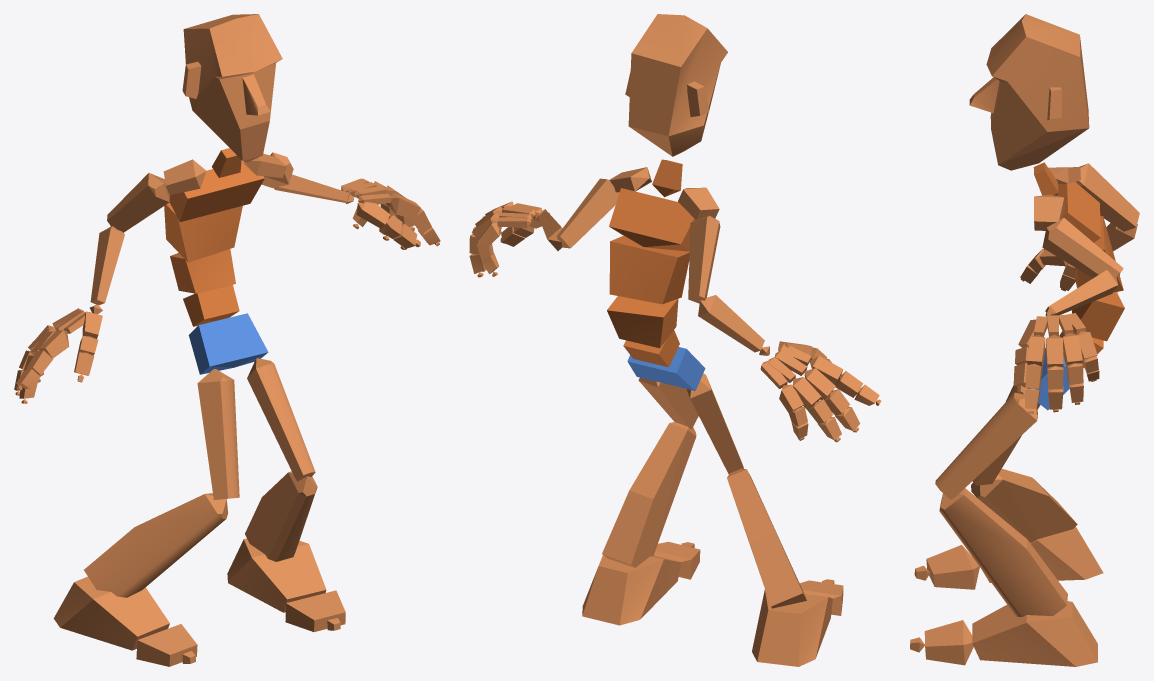
3 views of the same model, side by side, from view 1: azimuth 30°, elevation 25°; view 2: azimuth 150°, elevation 25°; view 3: azimuth 270°, elevation 25° (orthographic). The views are drawn at different scales.
Visible parts, largest first — view 1: BOPED_Head, BOPED_R_leg, BOPED_R_foot, BOPED_R_foot01, BOPED_R_legup, BOPED_L_leg, BOPED_L_legup, Bone01, Bone04, Bone05, Bone03, BOPED_R_arm_upper (+8 smaller); view 2: BOPED_Head, BOPED_L_leg, BOPED_R_foot01, BOPED_R_foot, BOPED_R_leg, Bone04, Bone05, Bone03, BOPED_R_arm_upper, BOPED_R_legup, BOPED_L_arm_upper, Bone01 (+8 smaller); view 3: BOPED_Head, BOPED_L_leg, BOPED_R_foot01, BOPED_R_leg, BOPED_L_legup, BOPED_R_foot, BOPED_L_arm_upper, BOPED_R_arm_upper, BOPED_R_foot_toe01, BOPED_R_foot_toe04, Bone05, Bone03 (+14 smaller).
Part boxes in pixels (bbox=[...]): BOPED_Head: bbox=[182, 14, 282, 162]; BOPED_R_leg: bbox=[84, 493, 227, 597]; BOPED_R_foot: bbox=[53, 576, 169, 650]; BOPED_R_foot01: bbox=[227, 538, 326, 612]; BOPED_R_legup: bbox=[197, 369, 239, 499]; BOPED_L_leg: bbox=[245, 471, 317, 561]; BOPED_L_legup: bbox=[247, 358, 315, 481]; Bone01: bbox=[188, 313, 268, 374]; Bone04: bbox=[164, 202, 242, 262]; Bone05: bbox=[169, 161, 264, 222]; Bone03: bbox=[170, 249, 235, 293]; BOPED_R_arm_upper: bbox=[107, 173, 169, 232]; BOPED_Head: bbox=[625, 14, 727, 156]; BOPED_L_leg: bbox=[602, 422, 696, 567]; BOPED_R_foot01: bbox=[582, 555, 681, 625]; BOPED_R_foot: bbox=[752, 589, 832, 666]; BOPED_R_leg: bbox=[727, 468, 806, 608]; Bone04: bbox=[609, 236, 689, 304]; Bone05: bbox=[609, 188, 696, 251]; Bone03: bbox=[607, 296, 678, 348]; BOPED_R_arm_upper: bbox=[688, 215, 720, 303]; BOPED_R_legup: bbox=[686, 373, 743, 474]; BOPED_L_arm_upper: bbox=[557, 178, 619, 248]; Bone01: bbox=[627, 347, 705, 390]; BOPED_Head: bbox=[969, 14, 1089, 170]; BOPED_L_leg: bbox=[939, 488, 1067, 616]; BOPED_R_foot01: bbox=[972, 601, 1097, 666]; BOPED_R_leg: bbox=[971, 469, 1077, 542]; BOPED_L_legup: bbox=[935, 392, 1037, 499]; BOPED_R_foot: bbox=[982, 526, 1103, 582]; BOPED_L_arm_upper: bbox=[1042, 217, 1123, 278]; BOPED_R_arm_upper: bbox=[1075, 163, 1139, 231]; BOPED_R_foot_toe01: bbox=[926, 545, 979, 589]; BOPED_R_foot_toe04: bbox=[924, 620, 973, 665]; Bone05: bbox=[1057, 182, 1100, 242]; Bone03: bbox=[1072, 292, 1124, 341].
Size of the model in its own units: 130 by 176 by 60.4.
